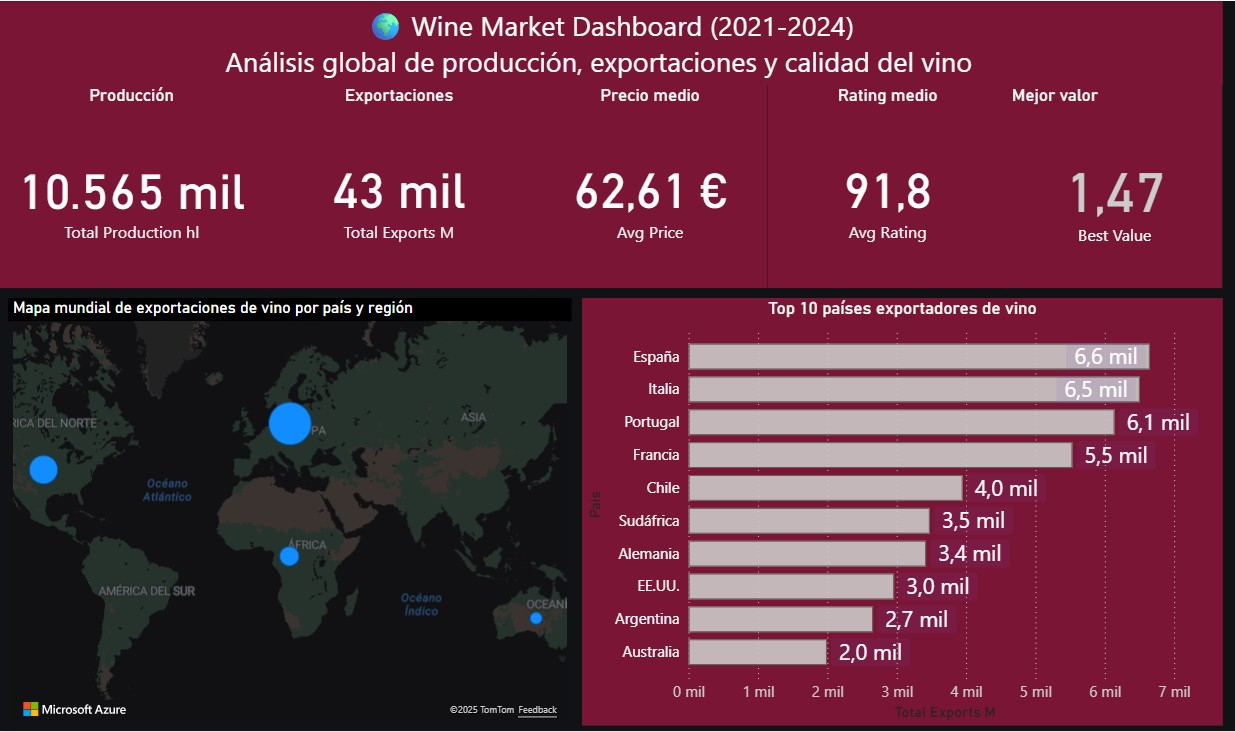

What the dashboard file says about the page in this screenshot:
{"tool":"powerbi","page":{"name":"Wine World Overview","canvas":[1280,720],"ordinal":0},"visuals":[{"type":"card","title":"Producción","fields":{"Values":["WineMarket_2021_2024.Total Production hl"]},"box":[0,82.5,263.3,200.4],"z":0},{"type":"card","title":"Exportaciones","fields":{"Values":["WineMarket_2021_2024.Total Exports M"]},"box":[263,82.8,264,199.7],"z":1000},{"type":"card","title":"Precio medio","fields":{"Values":["WineMarket_2021_2024.Avg Price"]},"box":[527,82.8,230.9,199.7],"z":2000},{"type":"card","title":"Rating medio","fields":{"Values":["WineMarket_2021_2024.Avg Rating"]},"box":[757.9,82.8,235.7,199.7],"z":3000},{"type":"card","title":"Mejor valor","fields":{"Values":["WineMarket_2021_2024.Best Value"]},"box":[993.6,82.8,212.4,199.7],"z":4000},{"type":"azureMap","title":"Mapa mundial de exportaciones de vino por país y región","fields":{"Category":["WineMarket_2021_2024.Jerarquia_Geografica.Continente","WineMarket_2021_2024.Jerarquia_Geografica.Pais","WineMarket_2021_2024.Jerarquia_Geografica.Region","WineMarket_2021_2024.Jerarquia_Geografica.Bodega"],"Size":["WineMarket_2021_2024.Total Exports M"]},"box":[9.7,292.2,555.3,420.8],"z":5000},{"type":"clusteredBarChart","title":"Top 10 países exportadores de vino","fields":{"Category":["WineMarket_2021_2024.Pais"],"Y":["WineMarket_2021_2024.Total Exports M"]},"box":[574.7,292.2,631.2,420.8],"z":6000},{"type":"textbox","box":[0,0,1206,82.8],"z":7000}]}

Visuals, with their boxes on the page's 1280x720 design canvas (x1, y1, x2, y2). These are canvas units, not pixel positions in the 1235x732 screenshot, which may show the page scaled, cropped or inside an application window:
"Producción" card: (0, 82, 263, 283)
"Exportaciones" card: (263, 83, 527, 282)
"Precio medio" card: (527, 83, 758, 282)
"Rating medio" card: (758, 83, 994, 282)
"Mejor valor" card: (994, 83, 1206, 282)
"Mapa mundial de exportaciones de vino por país y región" azureMap: (10, 292, 565, 713)
"Top 10 países exportadores de vino" clusteredBarChart: (575, 292, 1206, 713)
textbox: (0, 0, 1206, 83)
